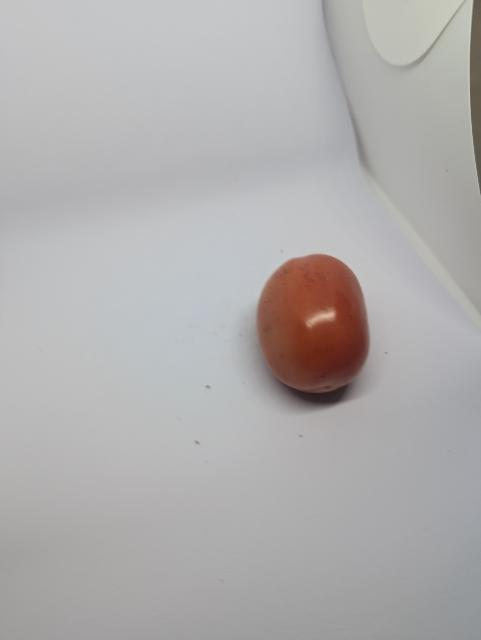red: (254, 250, 377, 398)
